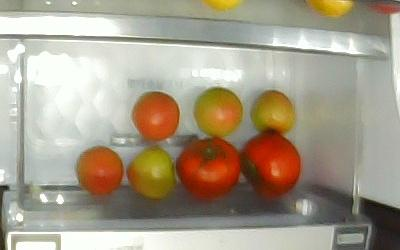tomato: (240, 132, 301, 197), (176, 137, 239, 198), (127, 146, 176, 200), (193, 87, 243, 138), (131, 91, 180, 142), (75, 145, 123, 195), (250, 89, 295, 133)
